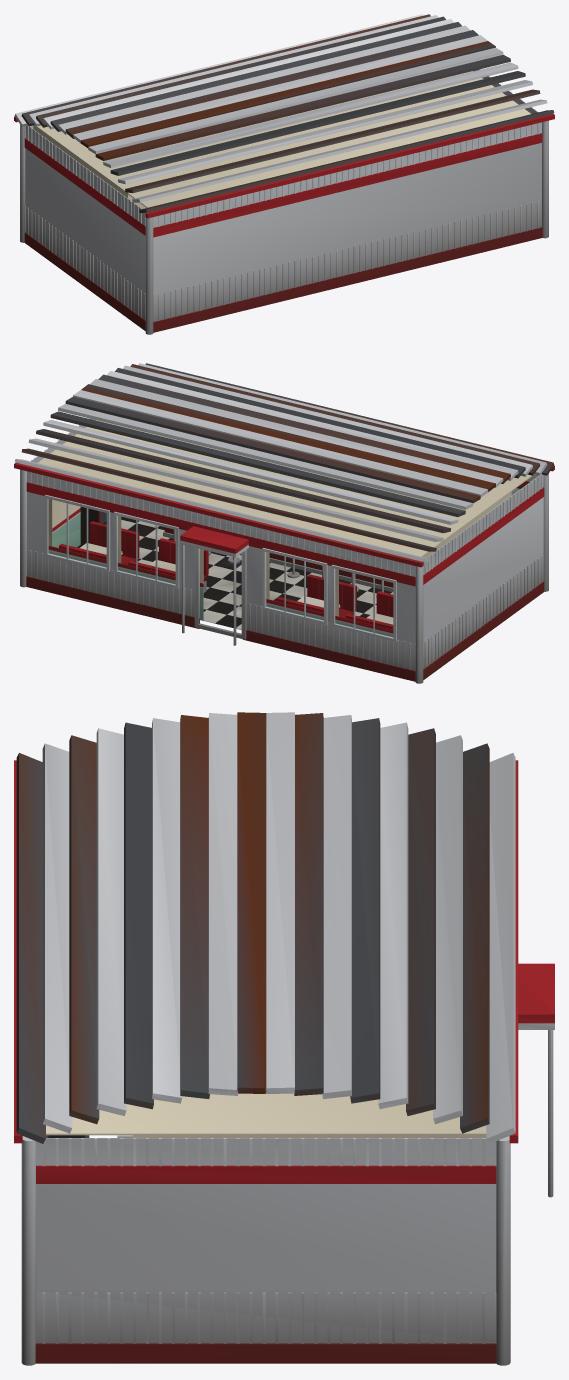
File: TruckStopDiner.glb
3 views of the same model, one above another, from view 1: azimuth 30°, elevation 25°; view 2: azimuth 150°, elevation 25°; view 3: azimuth 270°, elevation 25° (orthographic). The views are drawn at different scales.
Visible parts, largest first — view 1: TruckStopDiner_ts_chrome, TruckStopDiner_ts_steel, TruckStopDiner_ts_red, TruckStopDiner_ts_cream; view 2: TruckStopDiner_ts_chrome, TruckStopDiner_ts_steel, TruckStopDiner_ts_red, TruckStopDiner_ts_cream, TruckStopDiner_ts_vinyl, TruckStopDiner_ts_tile_b, TruckStopDiner_ts_tile_w, TruckStopDiner_ts_mint, TruckStopDiner_ts_formica, TruckStopDiner_ts_board; view 3: TruckStopDiner_ts_chrome, TruckStopDiner_ts_steel, TruckStopDiner_ts_red, TruckStopDiner_ts_cream.
Boxes of the visible parts, x1,y1,x2,y2 form: TruckStopDiner_ts_chrome: (14, 14, 548, 334); TruckStopDiner_ts_steel: (21, 14, 554, 213); TruckStopDiner_ts_red: (14, 113, 554, 332); TruckStopDiner_ts_cream: (33, 71, 530, 208); TruckStopDiner_ts_chrome: (15, 363, 548, 683); TruckStopDiner_ts_steel: (21, 363, 554, 551); TruckStopDiner_ts_red: (14, 462, 554, 681); TruckStopDiner_ts_cream: (38, 420, 534, 616); TruckStopDiner_ts_vinyl: (59, 521, 393, 629); TruckStopDiner_ts_tile_b: (77, 516, 391, 627); TruckStopDiner_ts_tile_w: (121, 519, 393, 629); TruckStopDiner_ts_mint: (48, 513, 393, 637); TruckStopDiner_ts_formica: (79, 543, 393, 624); TruckStopDiner_ts_board: (80, 507, 106, 545); TruckStopDiner_ts_chrome: (21, 712, 554, 1365); TruckStopDiner_ts_steel: (16, 712, 489, 1143); TruckStopDiner_ts_red: (14, 760, 554, 1363); TruckStopDiner_ts_cream: (46, 1093, 486, 1137).
Size of the model in its own units: 41.2 by 14.36 by 25.1.
